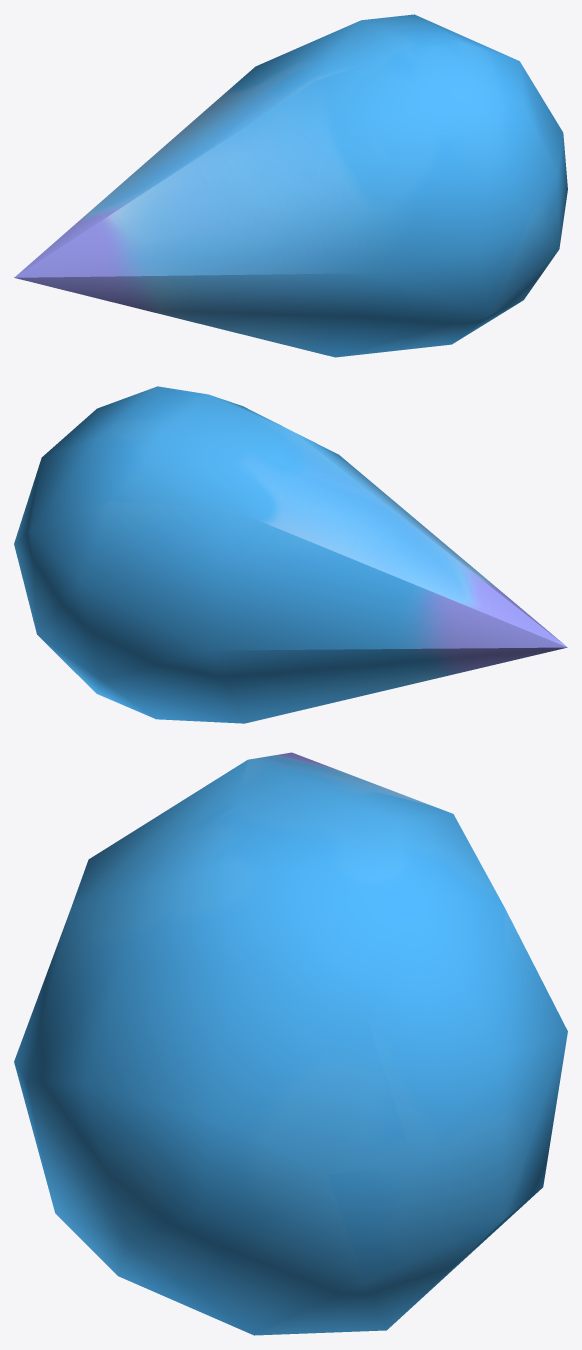
The model's file is Bullet2.obj.
The picture shows the model from 3 angles, top to bottom: view 1: azimuth 30°, elevation 25°; view 2: azimuth 150°, elevation 25°; view 3: azimuth 270°, elevation 25°; orthographic projection. The views are drawn at different scales.
Size of the model in its own units: 3.69 by 2 by 2.02.
1 material, 1 textured.
